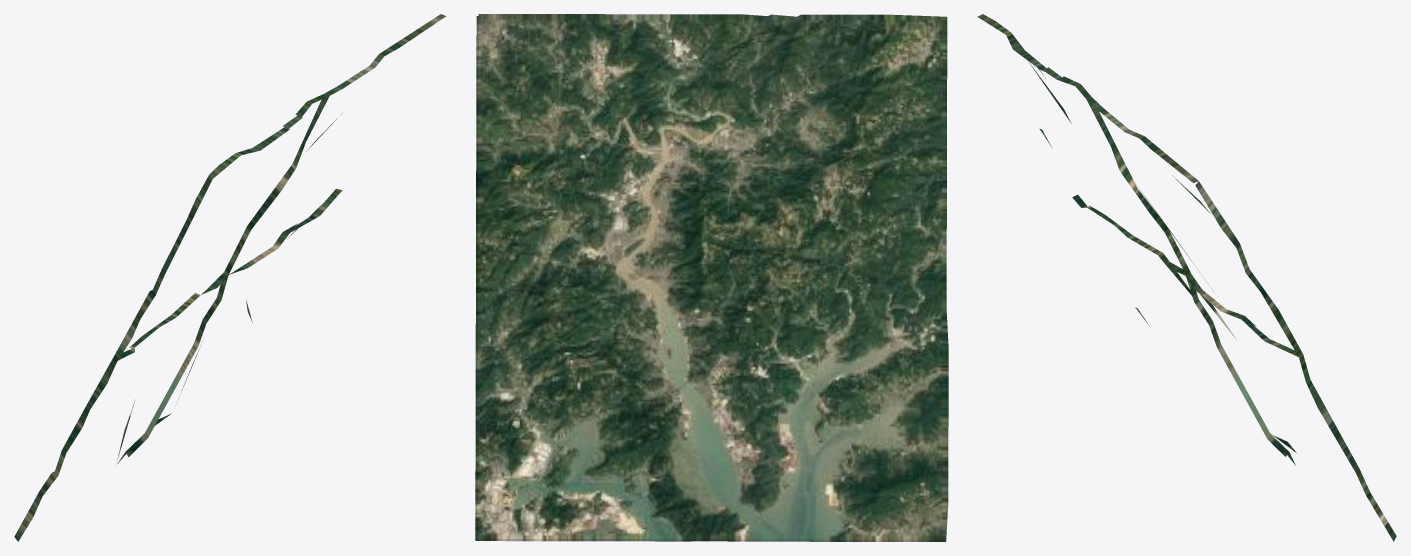
3 renders of one model, left to right at view 1: azimuth 30°, elevation 25°; view 2: azimuth 150°, elevation 25°; view 3: azimuth 270°, elevation 25°, orthographic. The views are drawn at different scales.
Size of the model in its own units: 39709 by 35675 by 32927.
Materials: 1 (1 with a texture image).
